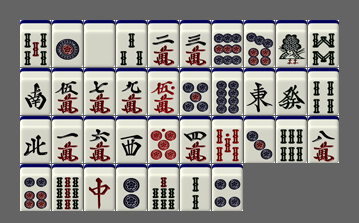0m: (148, 68, 179, 115)
0p: (148, 116, 179, 163)
0s: (212, 116, 243, 163)
1m: (52, 116, 83, 163)
1p: (52, 20, 83, 67)
1s: (276, 20, 307, 67)
1z: (244, 68, 275, 115)
2m: (148, 20, 179, 67)
2p: (116, 164, 147, 211)
2s: (180, 164, 211, 211)
2z: (20, 68, 51, 115)
3m: (180, 20, 211, 67)
3p: (244, 116, 275, 163)
3s: (116, 20, 147, 67)
3z: (116, 116, 147, 163)
4m: (180, 116, 211, 163)
4p: (212, 164, 243, 211)
4s: (308, 68, 339, 115)
4z: (20, 116, 51, 163)
5m: (52, 68, 83, 115)
5p: (180, 68, 211, 115)
5s: (20, 20, 51, 67)
5z: (84, 20, 115, 67)
6m: (84, 116, 115, 163)
6p: (20, 164, 51, 211)
6s: (276, 116, 307, 163)
6z: (276, 68, 307, 115)
7m: (84, 68, 115, 115)
7p: (244, 20, 275, 67)
7s: (148, 164, 179, 211)
7z: (84, 164, 115, 211)
8m: (308, 116, 339, 163)
8p: (212, 68, 243, 115)
8s: (308, 20, 339, 67)
9m: (116, 68, 147, 115)
9p: (212, 20, 243, 67)
9s: (52, 164, 83, 211)
